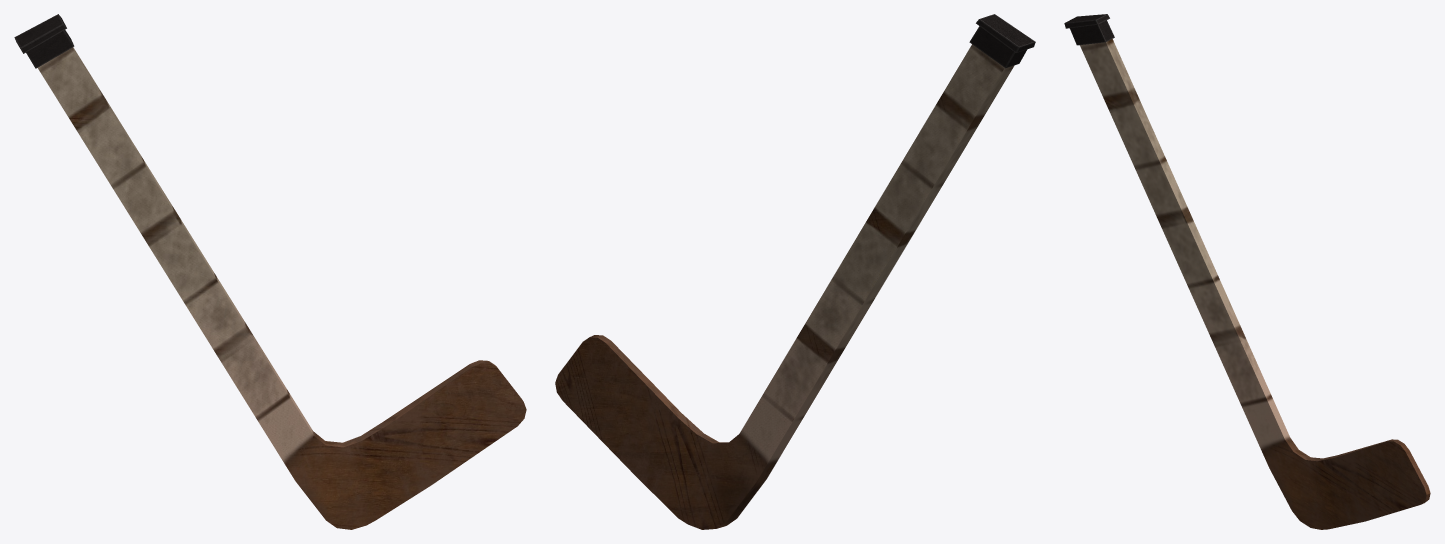
3 renders of one model, left to right at view 1: azimuth 30°, elevation 25°; view 2: azimuth 150°, elevation 25°; view 3: azimuth 330°, elevation 25°, orthographic. The views are drawn at different scales.
Parts seen in each view (by area): view 1: Stick; view 2: Stick; view 3: Stick.
Part boxes in pixels (<box>): Stick: <box>14,14,526,529</box>; Stick: <box>555,14,1035,529</box>; Stick: <box>1064,14,1430,529</box>.
Bounding box in the file's own units: 1.59 × 1.79 × 0.202.
Materials: 1 (1 with a texture image).
